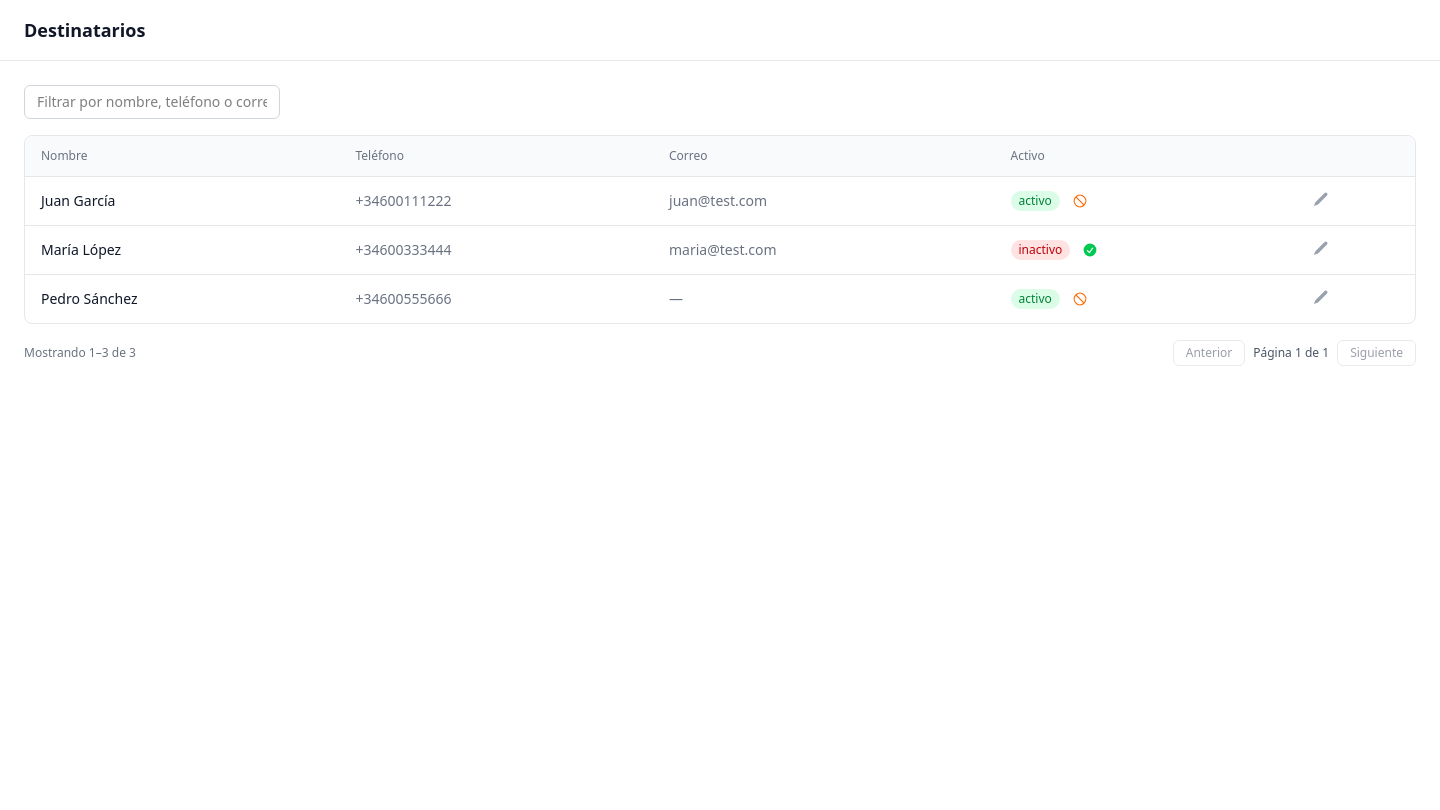
RecipientsPage › closes edit modal when Cancelar is clicked
Check: the text "Juan García" is shown, box [25,176,340,226]
Click the 2nd button: (1322, 199) [1314,191,1330,207]
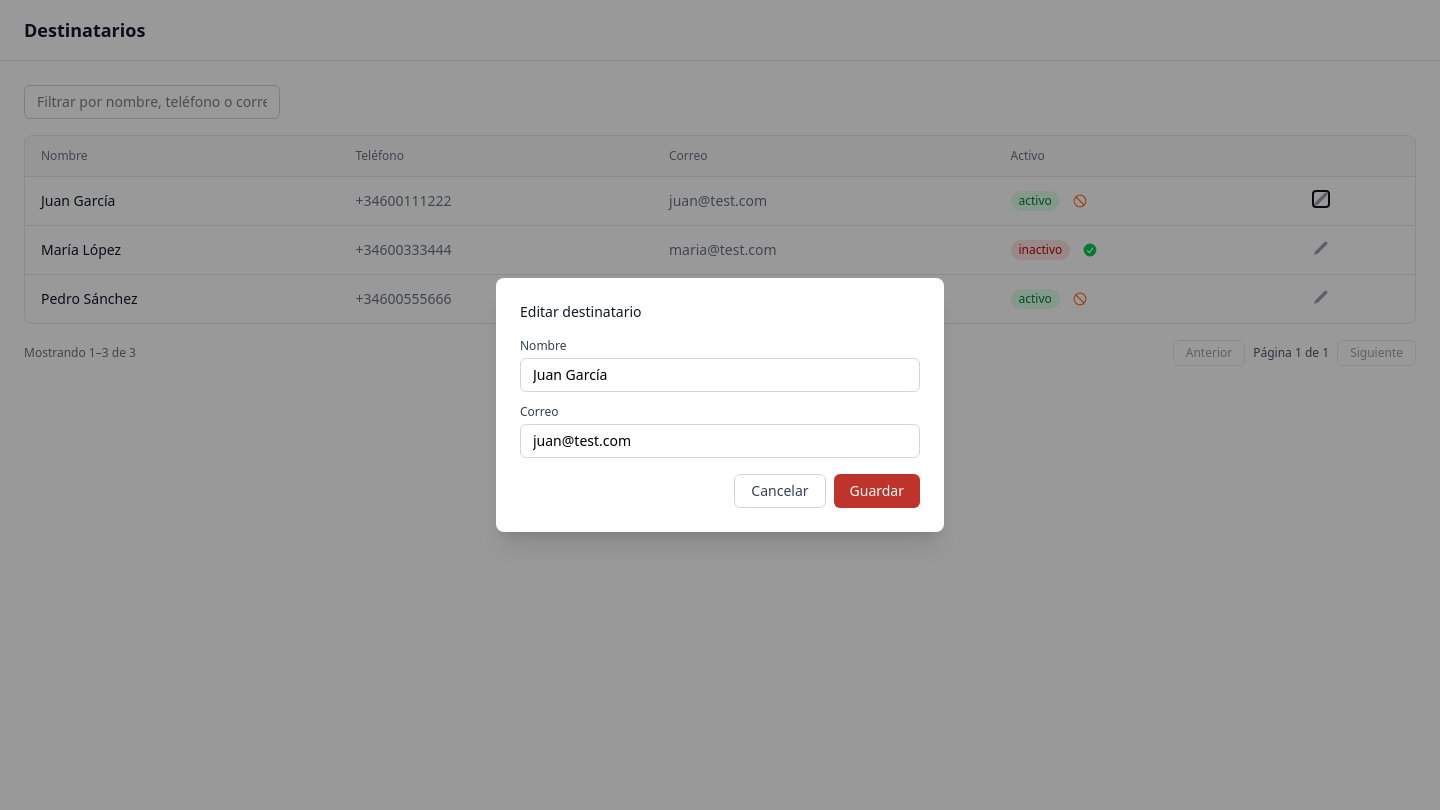
Check: the heading "Editar destinatario" is shown, box [520,302,642,321]
Click the button titled "Cancelar edición": (780, 491) [734,474,826,508]
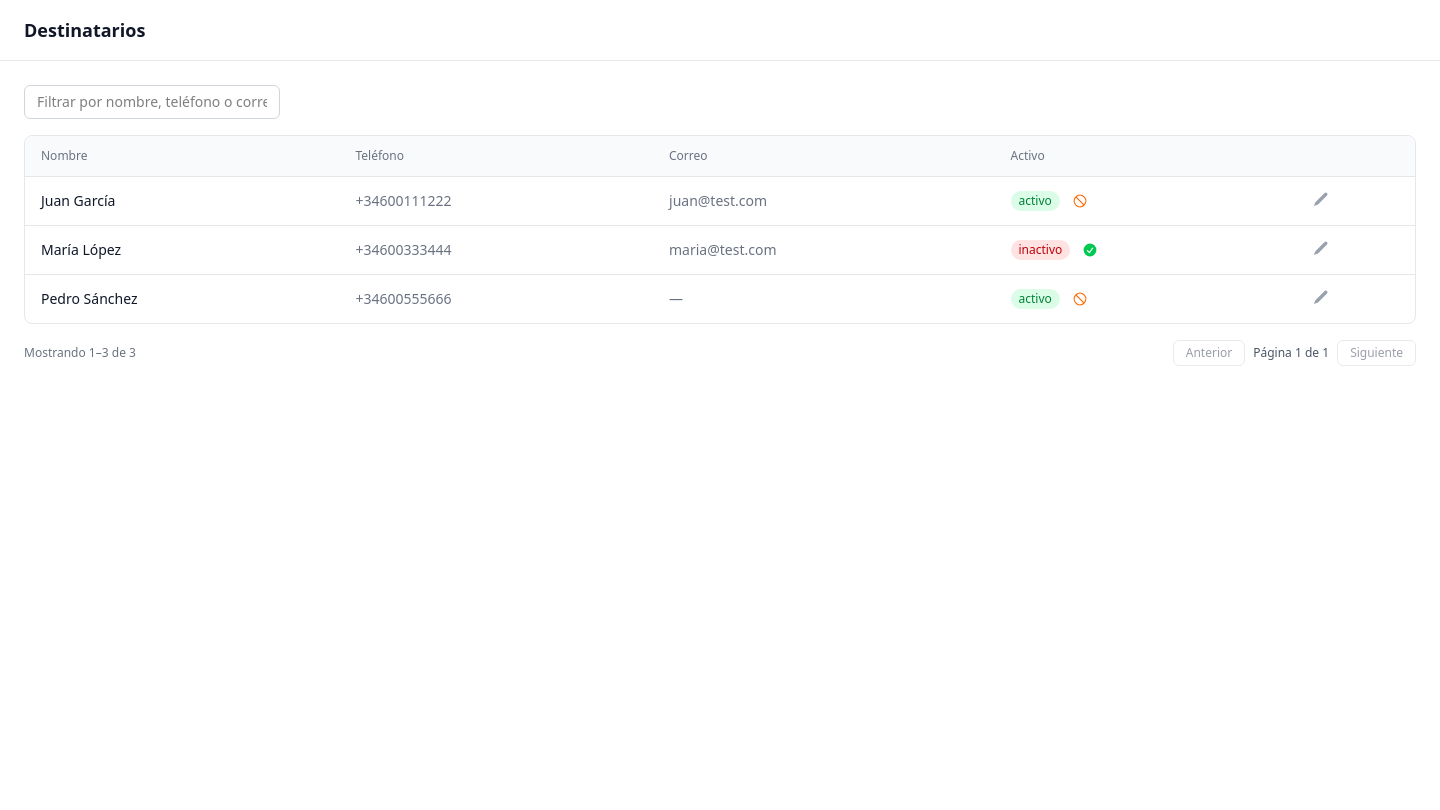
Check: the heading "Editar destinatario" is gone
